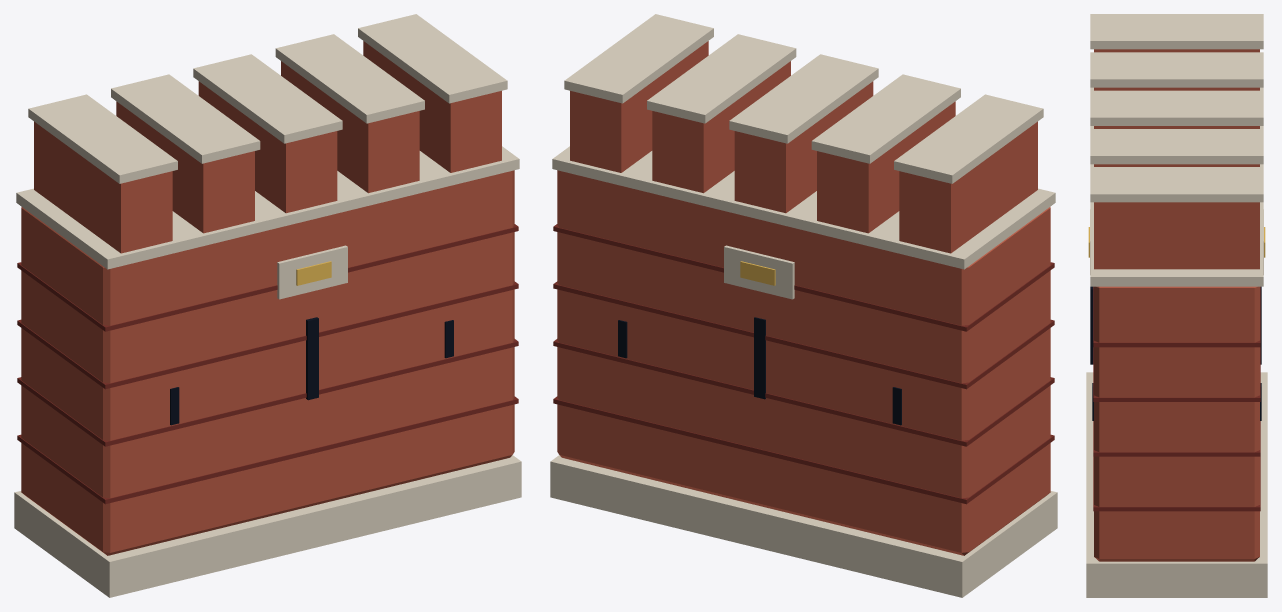
File: bld_kremlin_wall_b.glb
3 views of the same model, side by side, from view 1: azimuth 30°, elevation 25°; view 2: azimuth 150°, elevation 25°; view 3: azimuth 270°, elevation 25° (orthographic). The views are drawn at different scales.
Parts seen in each view (by area): view 1: bld_kremlin_wall_b; view 2: bld_kremlin_wall_b; view 3: bld_kremlin_wall_b.
Part boxes in pixels (x1,y1,x2,y2): bld_kremlin_wall_b: (14,14,521,597); bld_kremlin_wall_b: (550,14,1057,597); bld_kremlin_wall_b: (1086,14,1267,597).
Size of the model in its own units: 6.02 by 5.82 by 2.4.
Materials: 1 (1 with a texture image).
